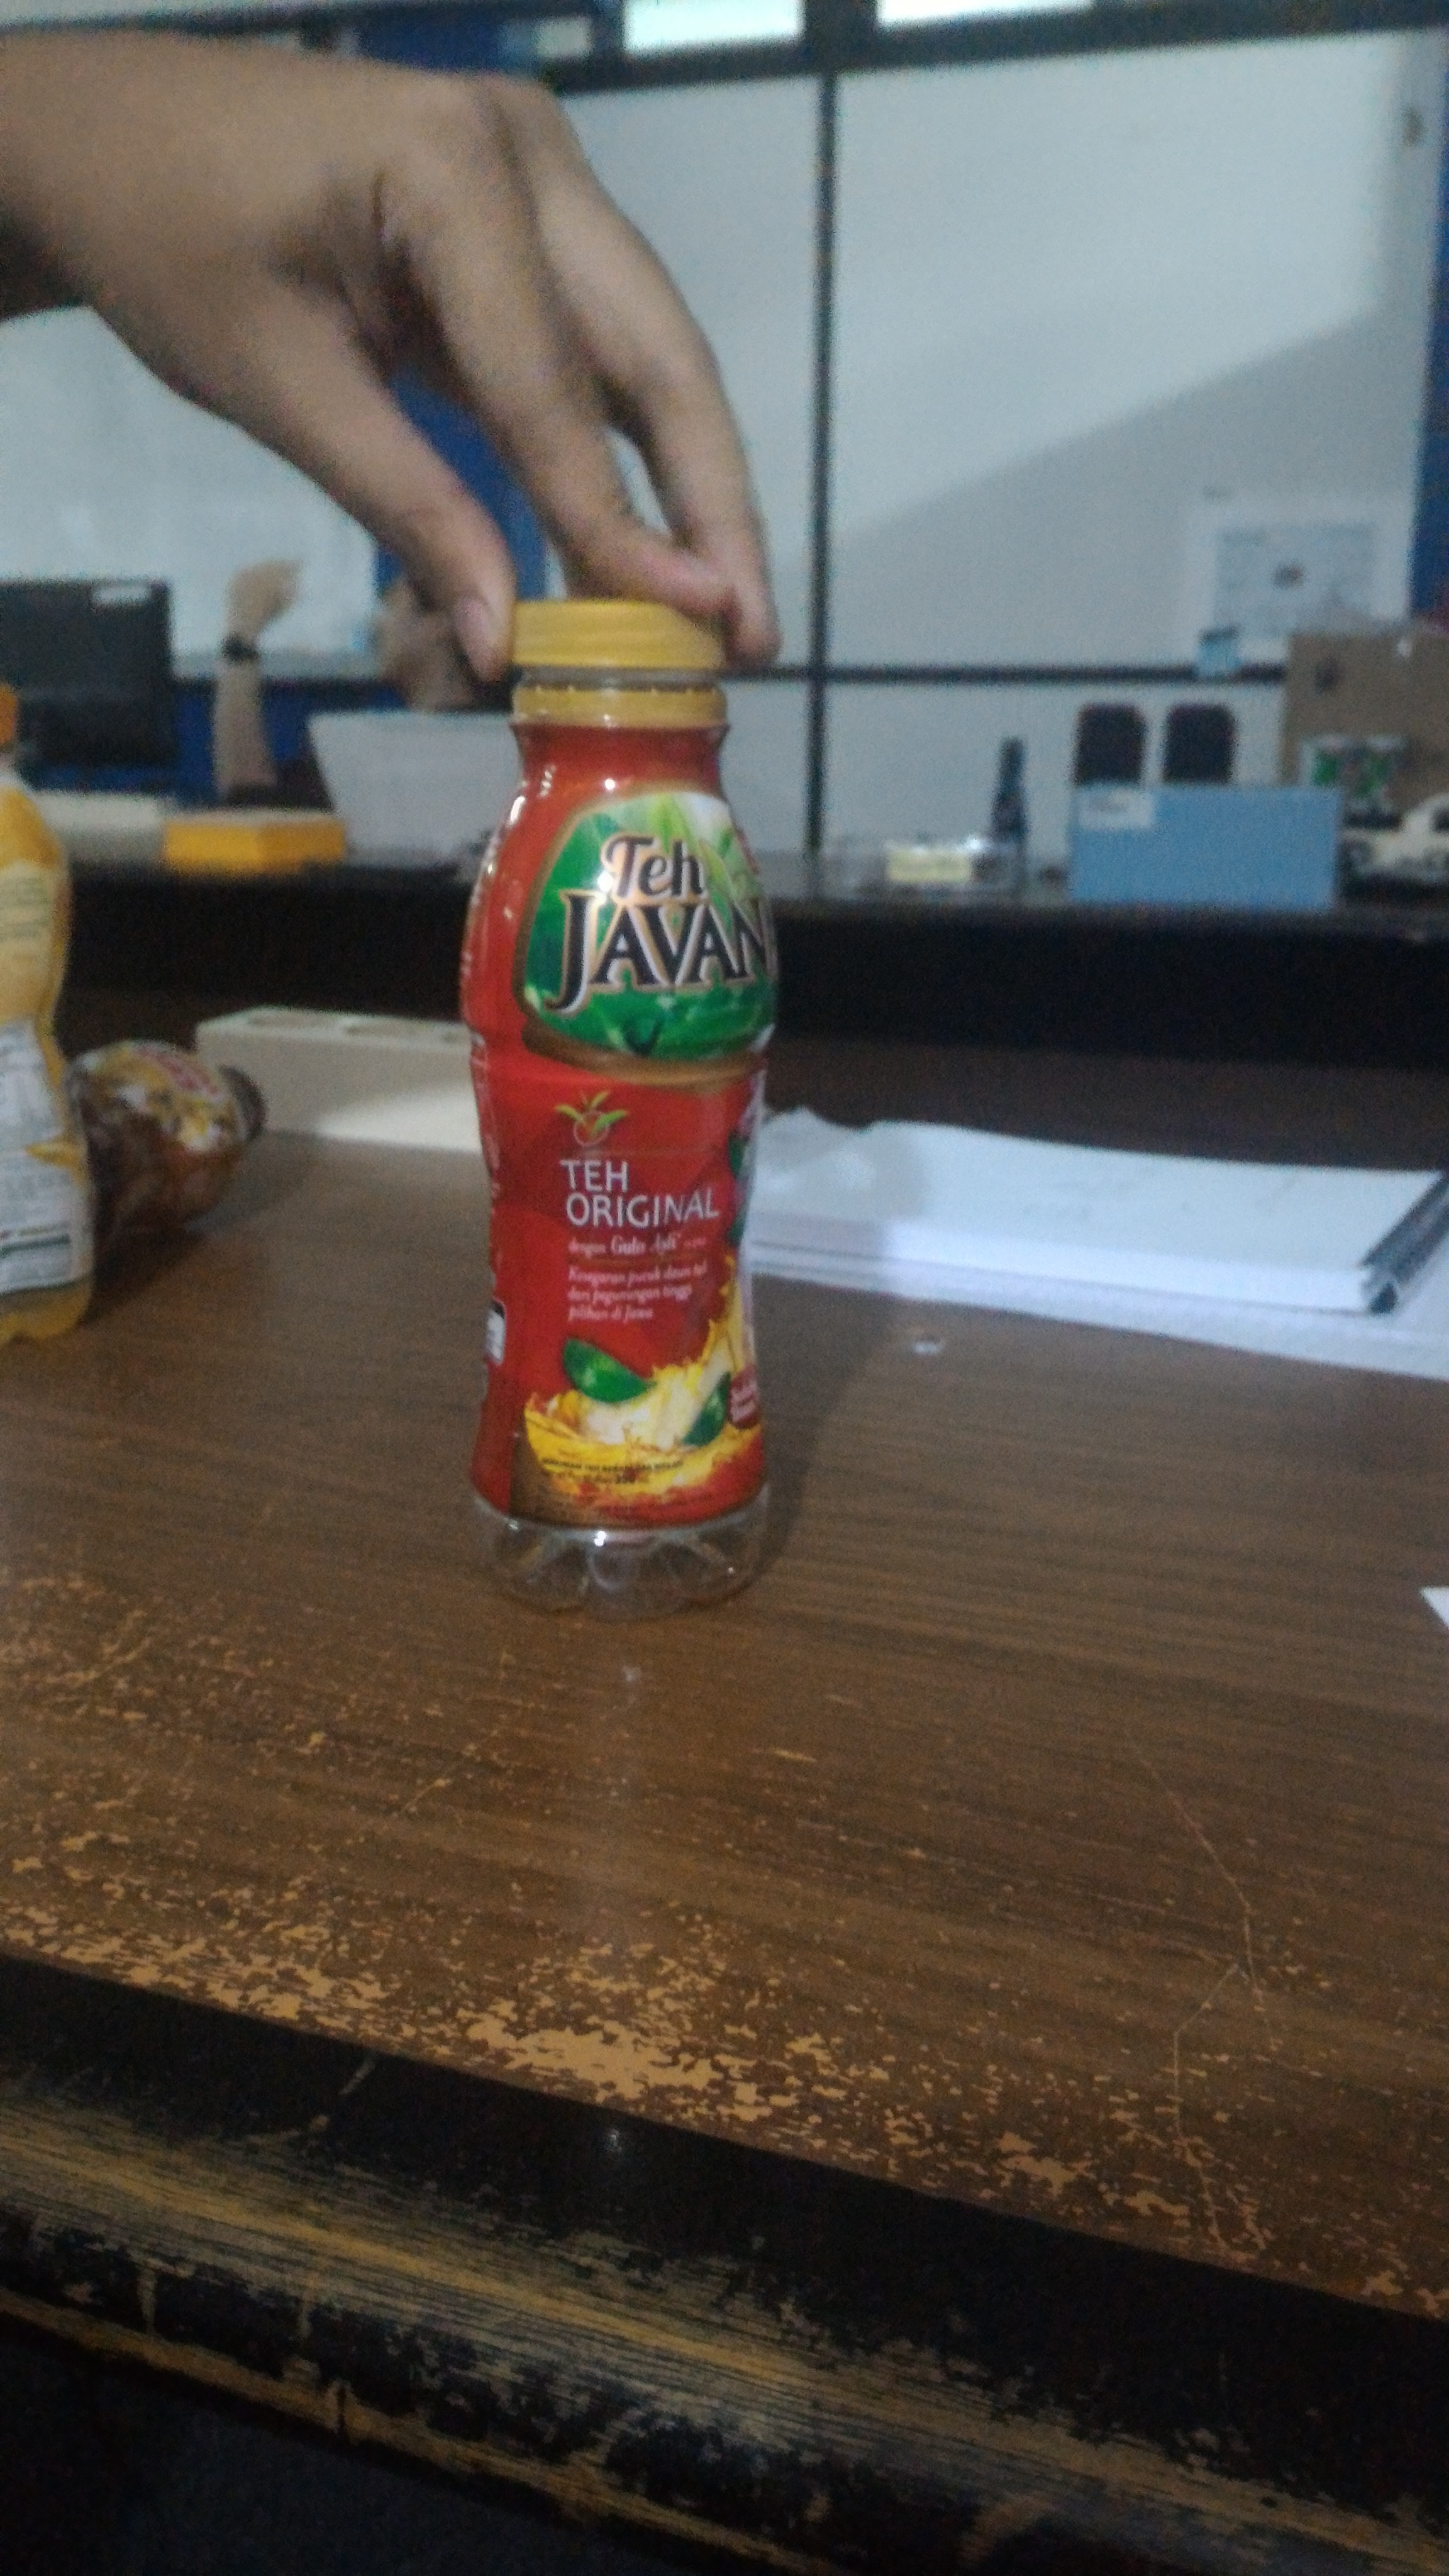botol: (449, 593, 777, 1619)
